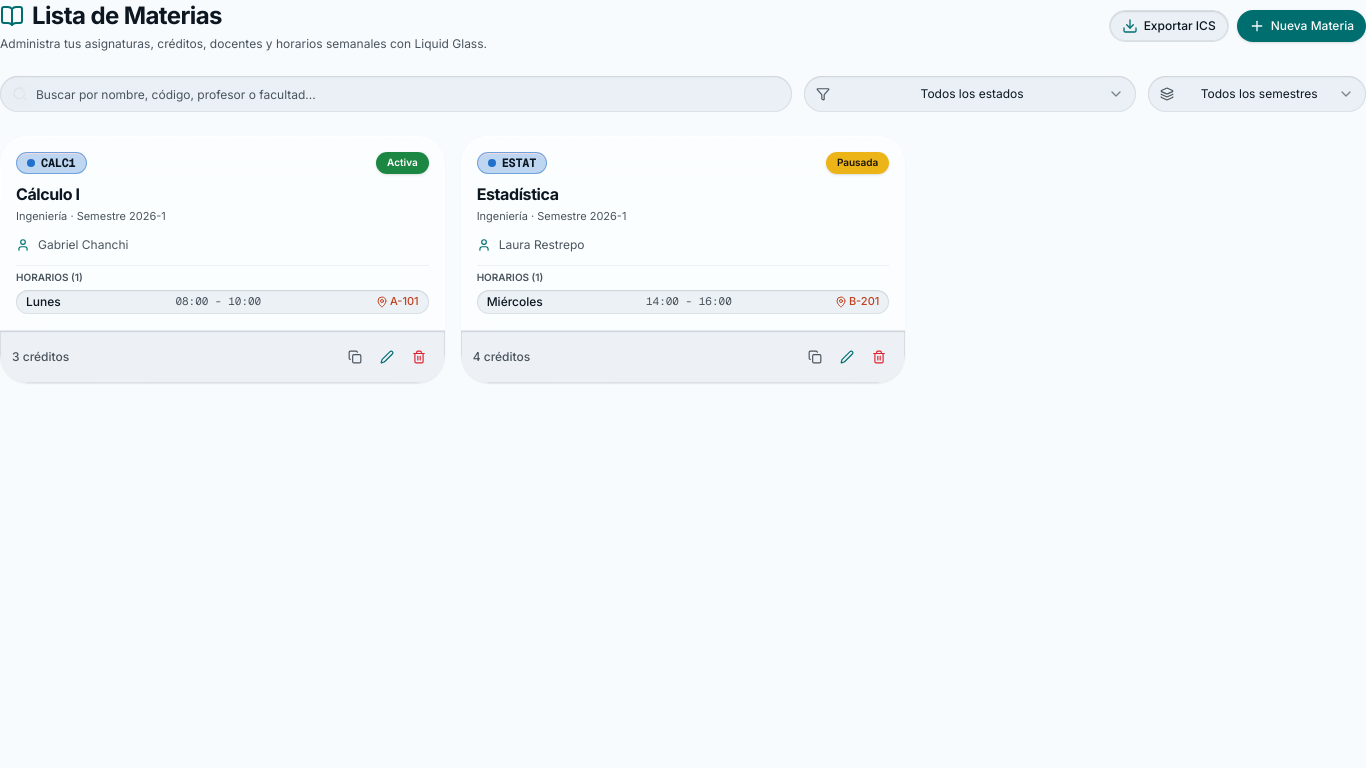
Test: CoursesView › deletes a course after confirmation and removes it optimistically
Click the button titled "Eliminar materia" below "14:00" at coordinates (879, 356), box [865,342,893,370]
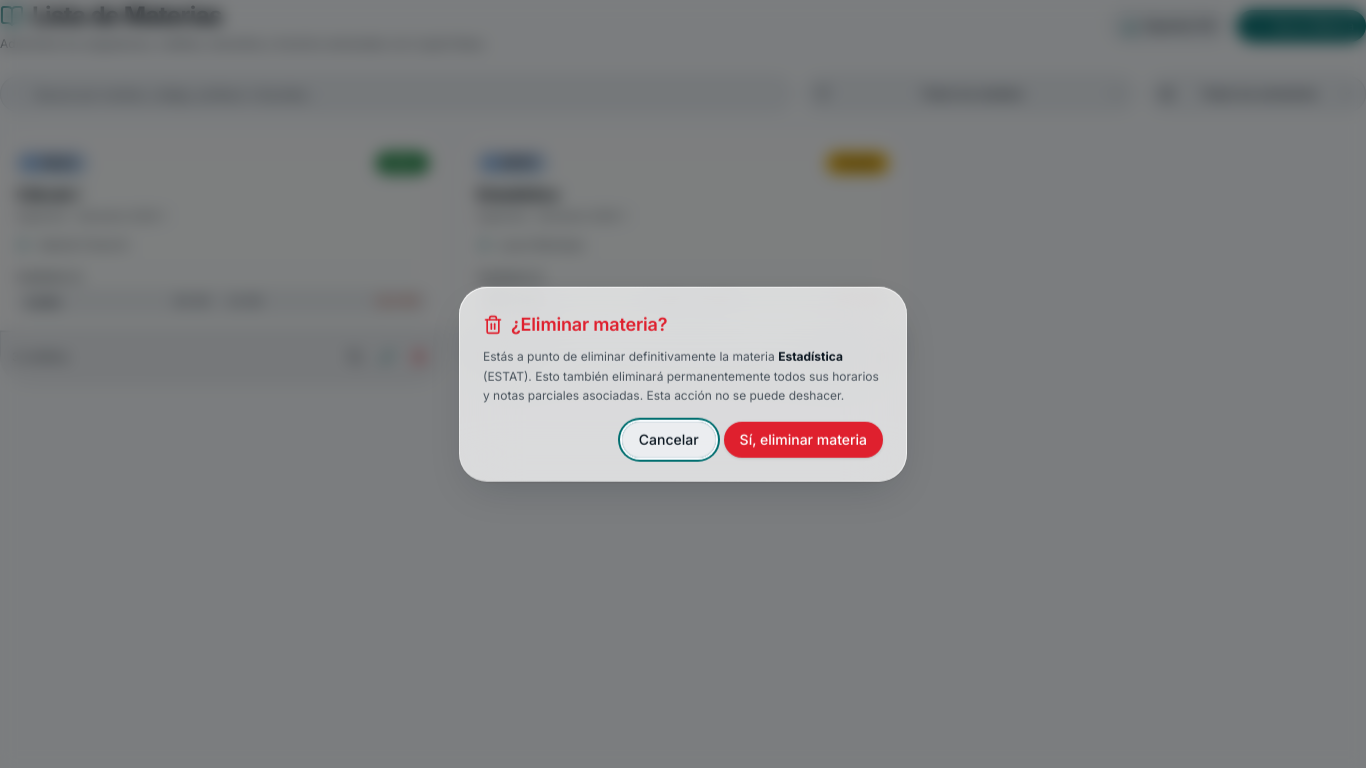
Check: the heading "¿Eliminar materia?" is shown, box [483,314,667,335]
Click the button "Sí, eliminar materia" at coordinates (803, 439), box [724,421,883,457]
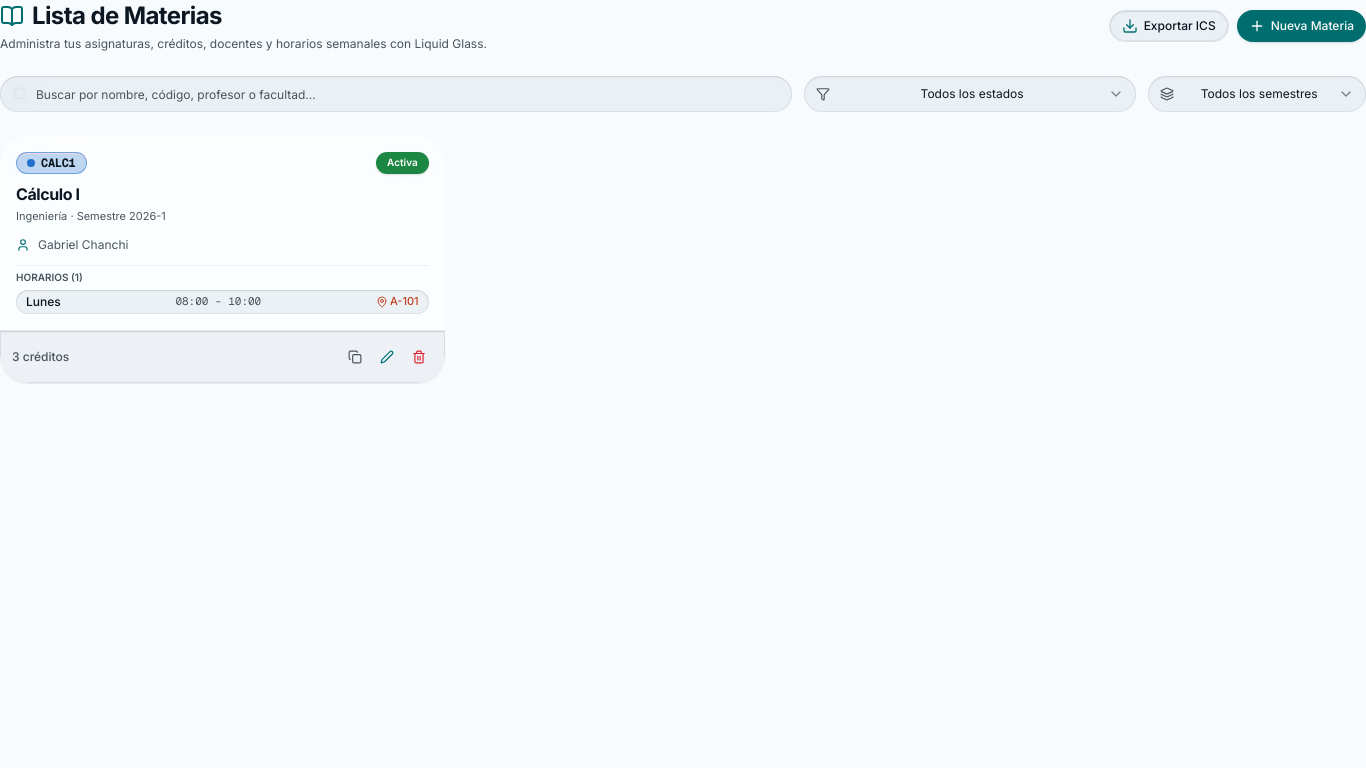
Check: the heading "Estadística" is gone
